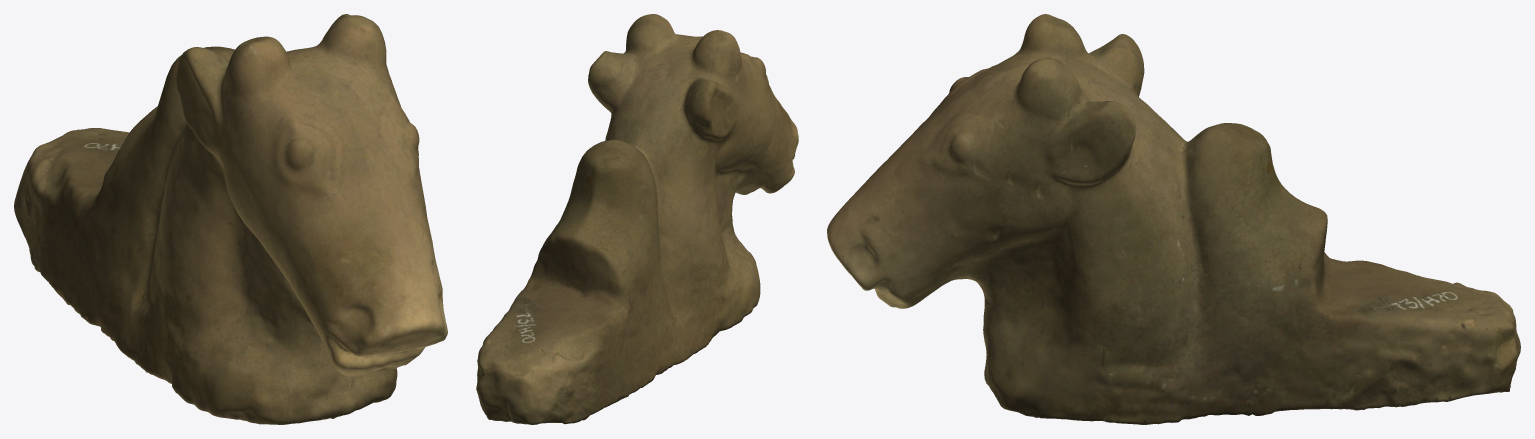
File: Museum_warehousetuongbothan_final.glb
The picture shows the model from 3 angles, left to right: view 1: azimuth 30°, elevation 25°; view 2: azimuth 150°, elevation 25°; view 3: azimuth 270°, elevation 25°; orthographic projection. The views are drawn at different scales.
Size of the model in its own units: 0.2346 by 0.4459 by 0.7991.
1 material, 1 textured.
